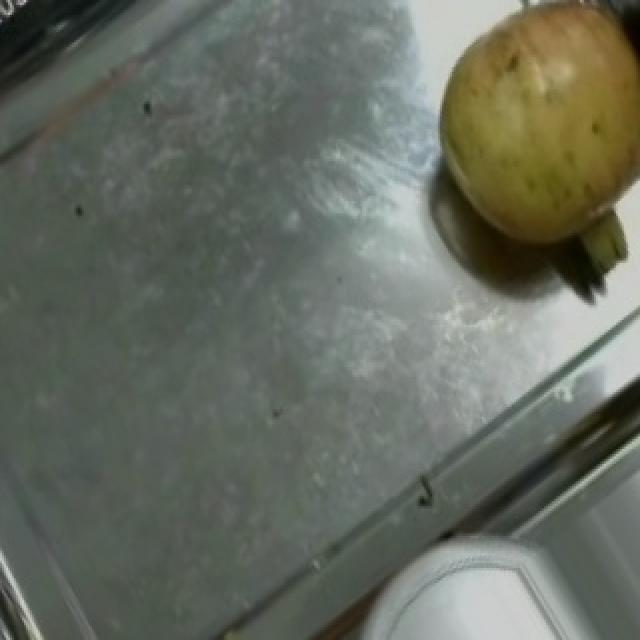fruit: (404, 0, 640, 256), (364, 543, 594, 640)
